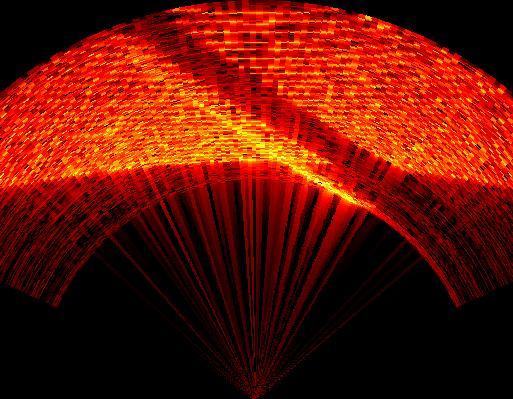pipe: (110, 13, 409, 207)
